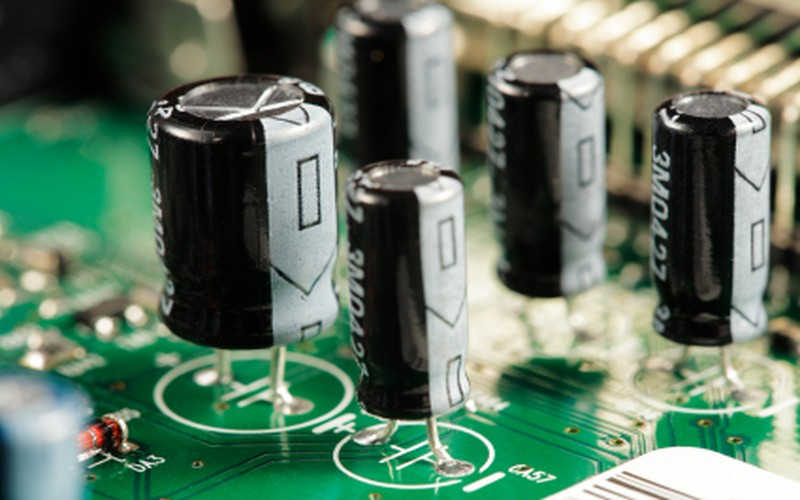Capacitor: (125, 59, 343, 373), (472, 37, 633, 354), (346, 151, 480, 458), (648, 73, 774, 384)
